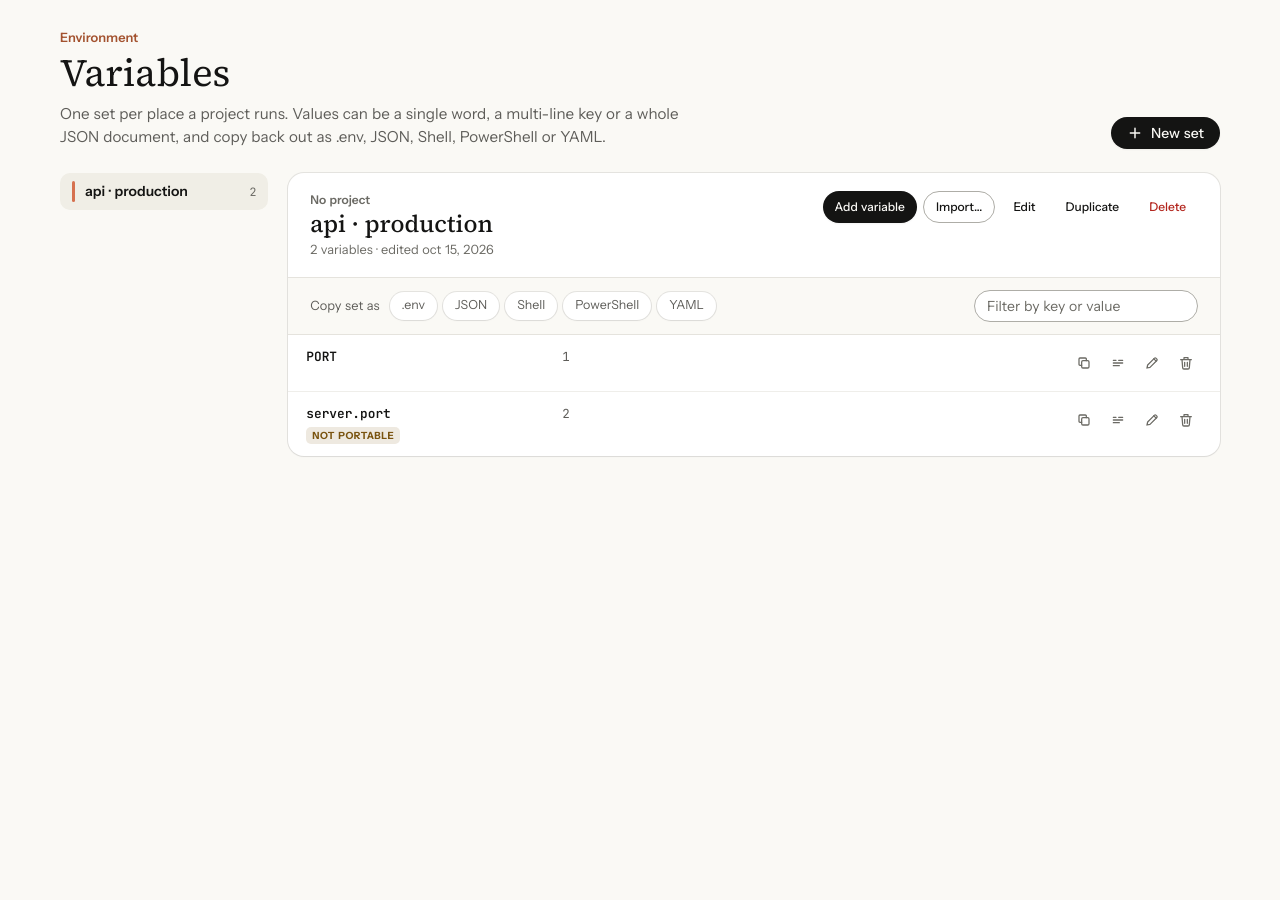
it: EnvPage › names the variables a Shell copy had to leave out
Check: the text "server.port" is shown, box [306,404,391,422]
Click the button "Shell": (531, 306) [505,292,557,320]
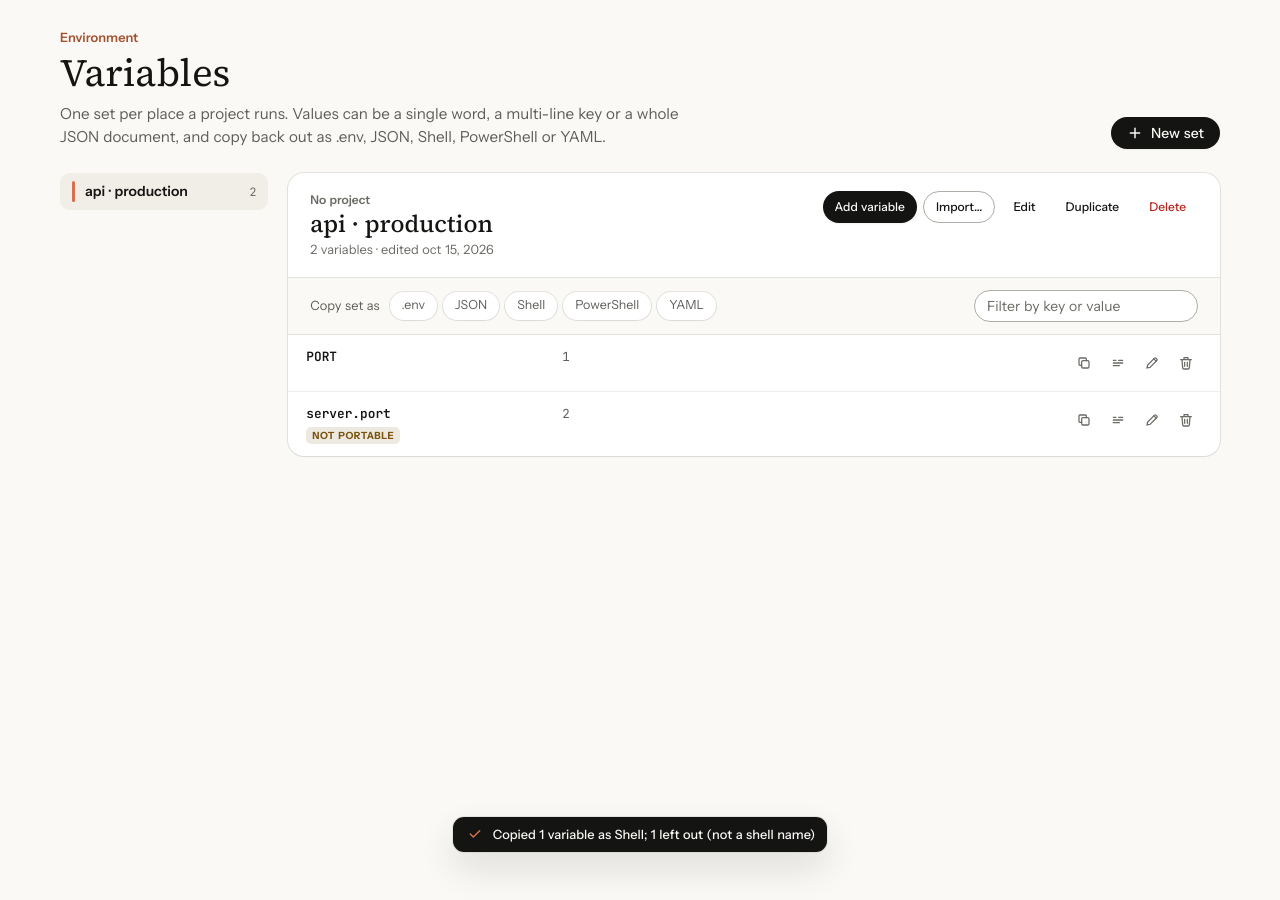
Check: the text "Copied 1 variable as Shell; 1 left out (not a shell name)" is shown, box [493,825,815,844]
